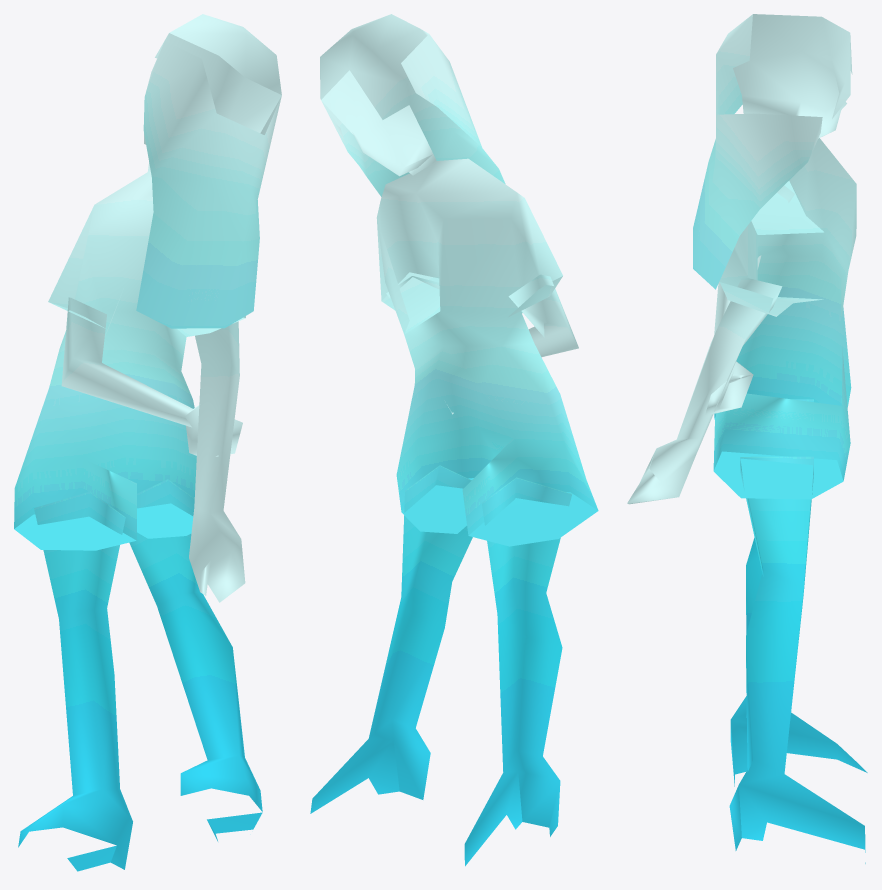
Rendered from ps2_save-icons_kamaitachinoyorutriplekamaitachinoyoru-3mikazukishimajikennoshinsou.glb.
3 renders of one model, left to right at view 1: azimuth 30°, elevation 25°; view 2: azimuth 150°, elevation 25°; view 3: azimuth 270°, elevation 25°, orthographic. The views are drawn at different scales.
Visible parts, largest first — view 1: sn4g.ico; view 2: sn4g.ico; view 3: sn4g.ico.
Part boxes in pixels (x1,y1,x2,y2): sn4g.ico: (14,14,281,871); sn4g.ico: (310,14,598,866); sn4g.ico: (627,14,867,863).
Bounding box in the file's own units: 1.57 × 4.78 × 1.25.
1 material, 1 textured.
